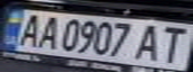0: (57, 16, 81, 52), (93, 19, 115, 56)
7: (109, 20, 136, 58)
9: (75, 17, 96, 54)
A: (133, 21, 169, 62), (12, 11, 45, 47), (33, 14, 63, 50)
T: (151, 24, 190, 63)
